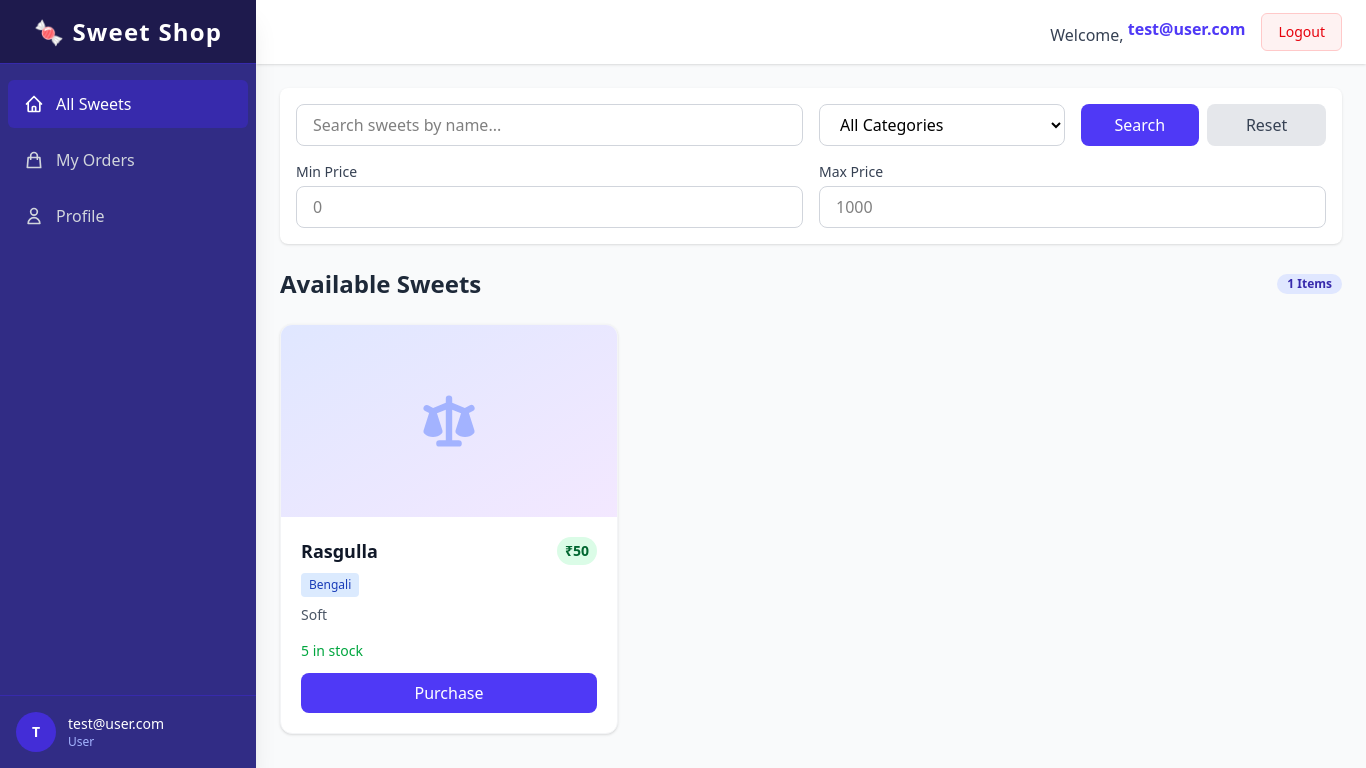
Dashboard Search and Filter › should display filtered results after search
Expected: the heading "Rasgulla" is shown, [301, 539, 378, 563]
Type "Gulab" into the field with placeholder "Search sweets by name..." at (550, 125), box [296, 104, 803, 146]
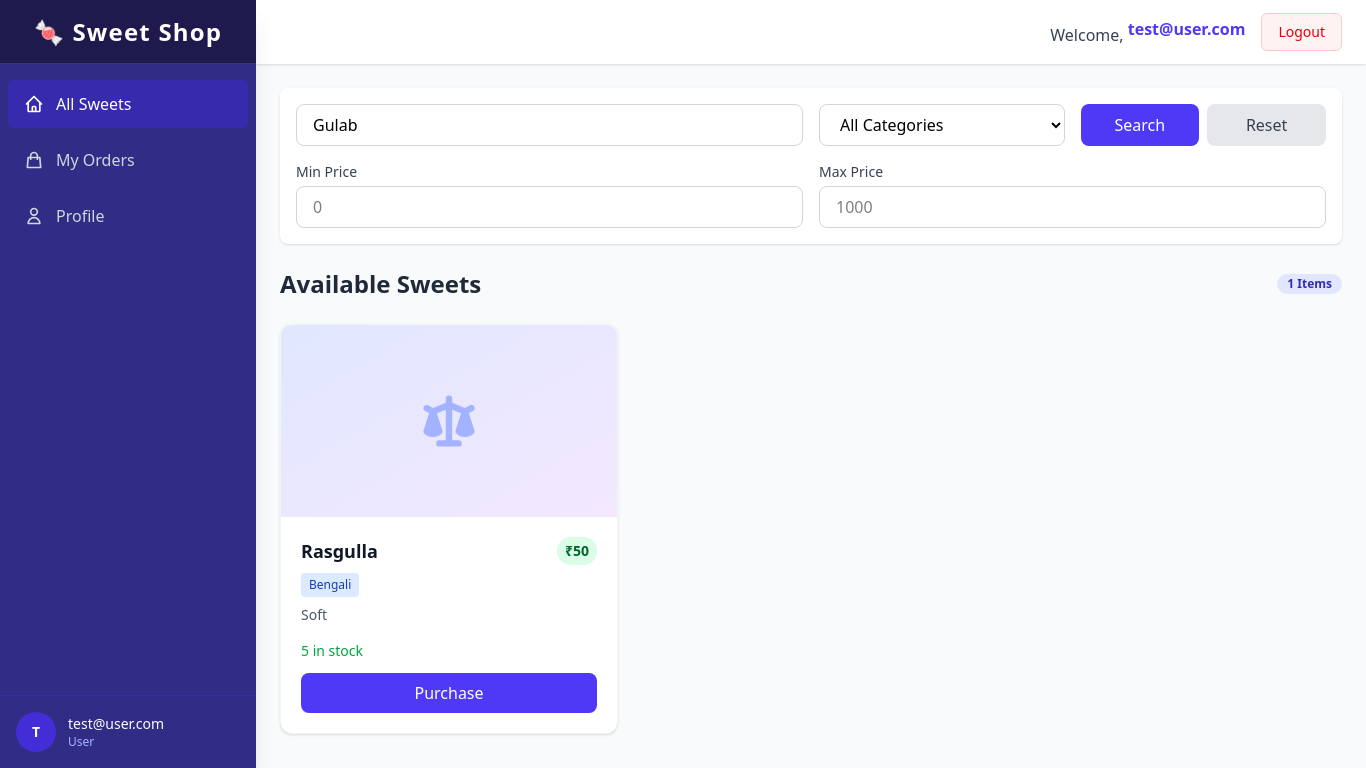
Click the button "Search" at (1140, 125), box [1080, 104, 1199, 146]
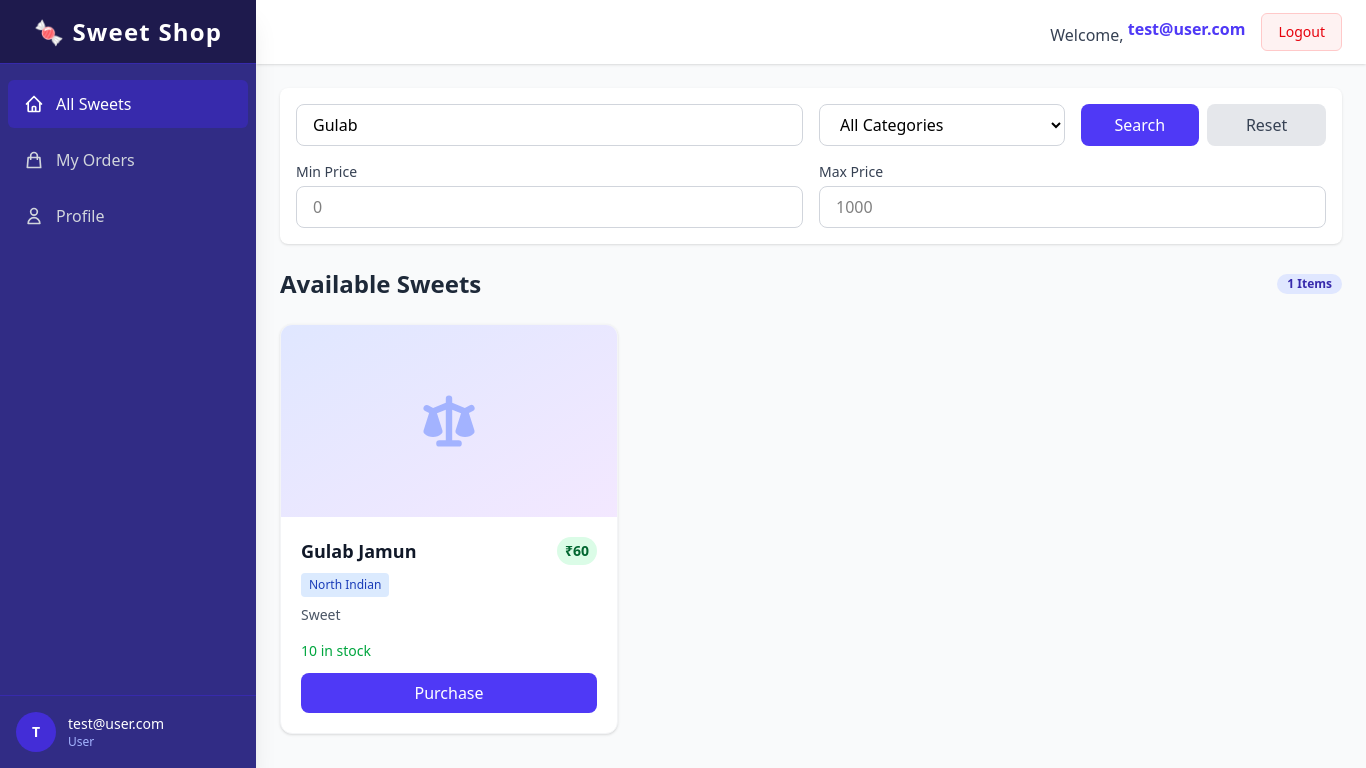
Result: the heading "Gulab Jamun" is shown at [301, 539, 416, 563]
Result: the heading "Rasgulla" is gone
